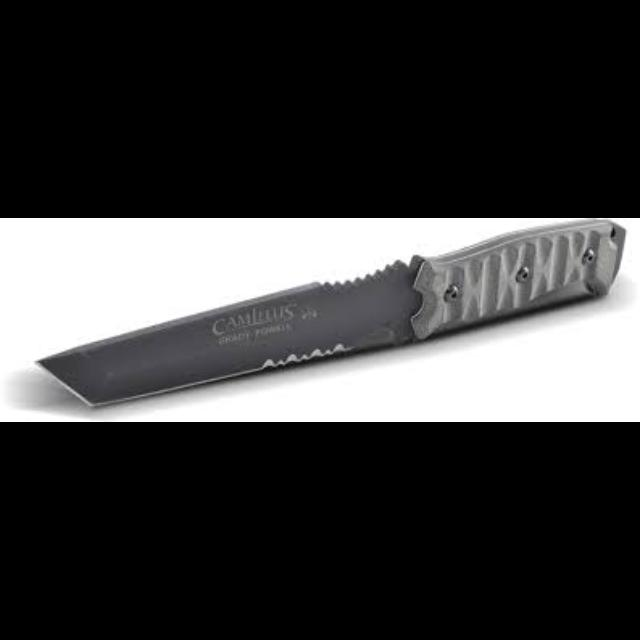Knife: (34, 218, 626, 406)
